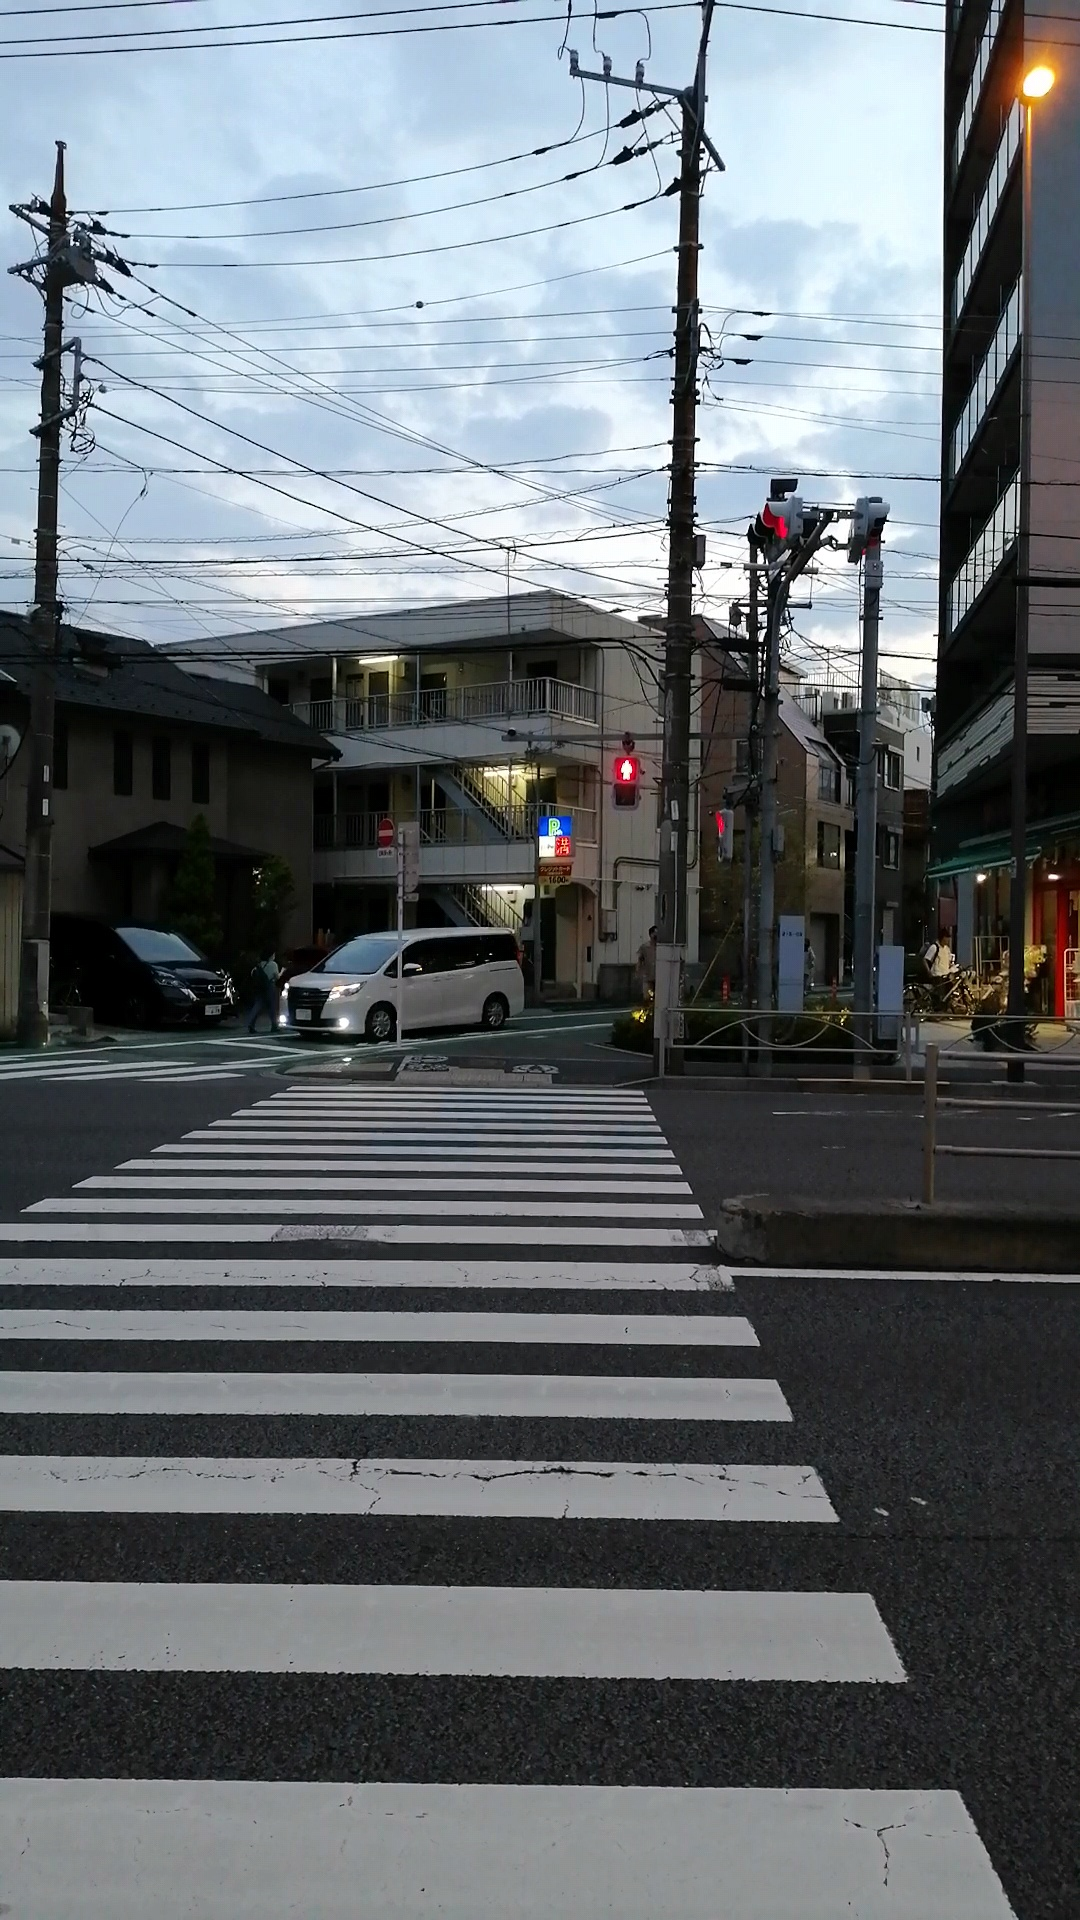red: (612, 754, 641, 810), (713, 810, 731, 860)
